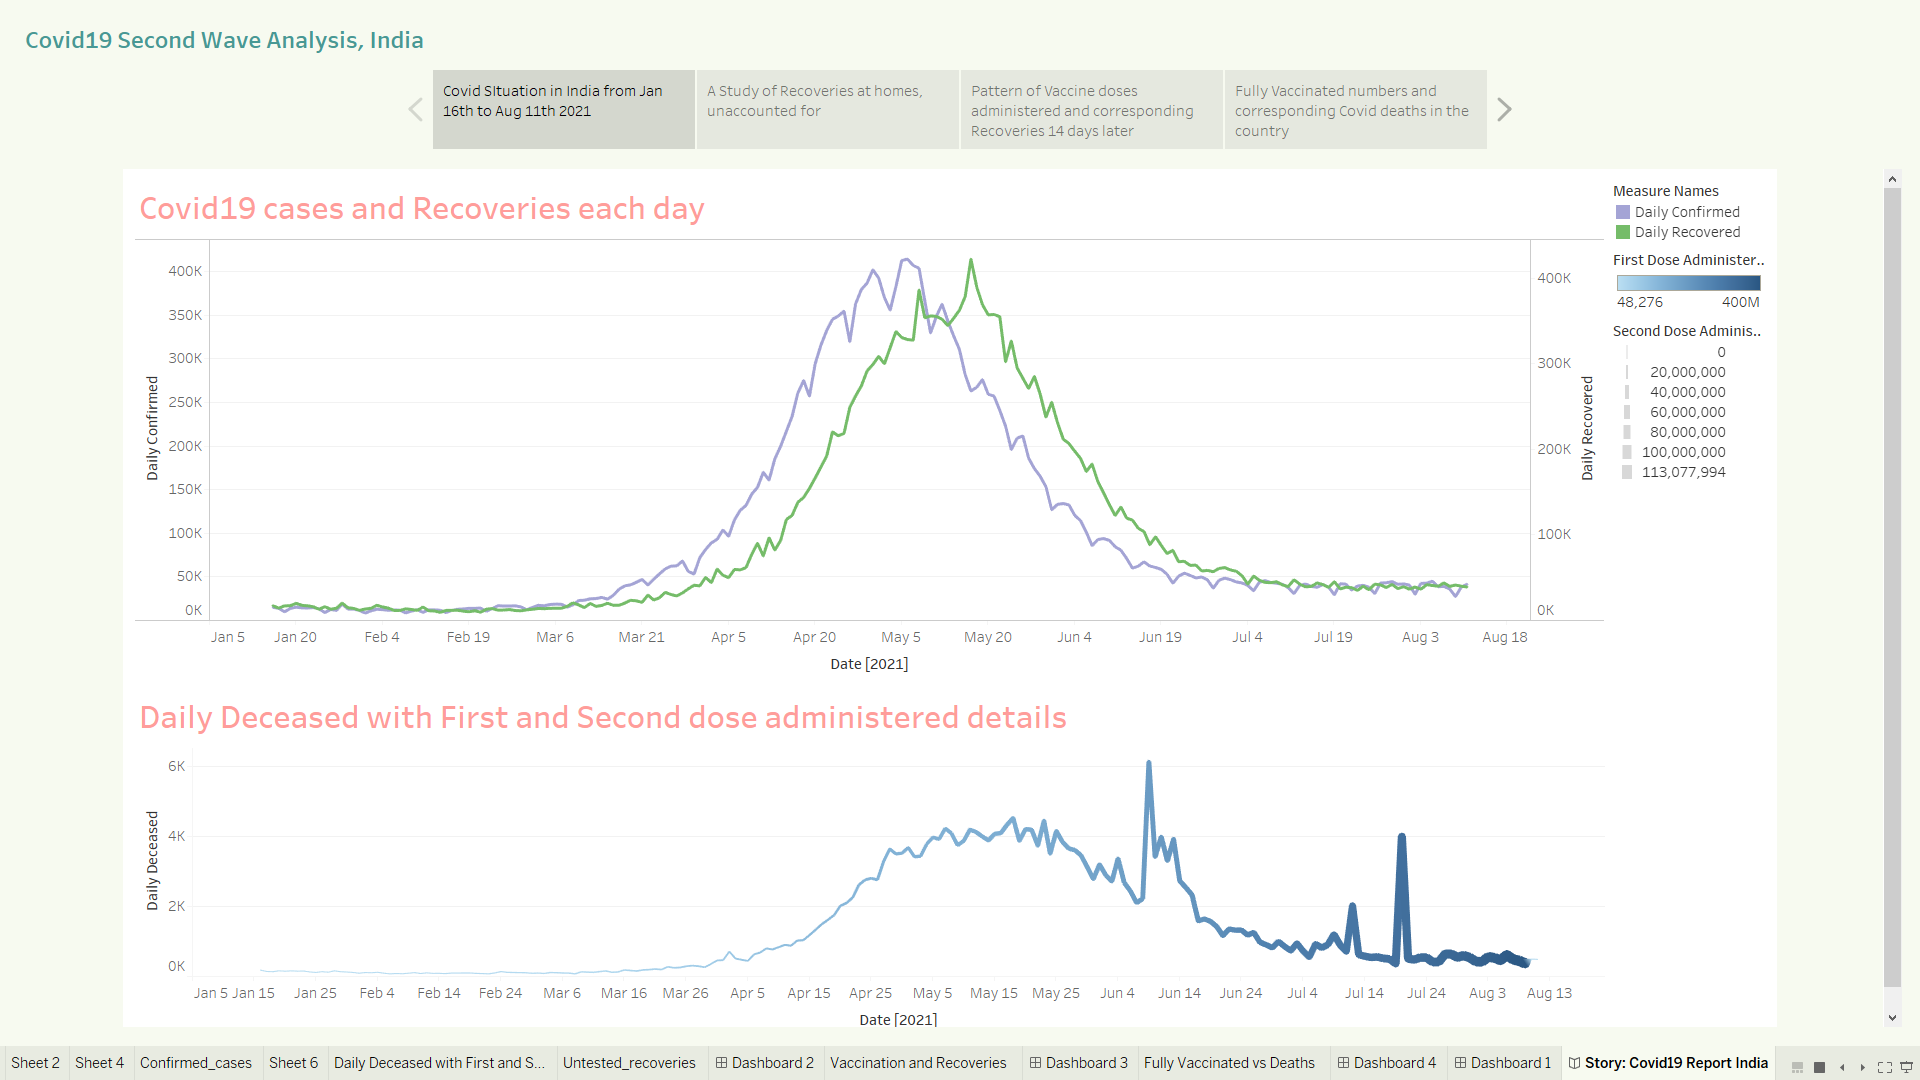

Layout of this report page (visuals, bound fields, positions):
{"tool":"tableau","page":{"name":"Dashboard 1","canvas":[1654,880],"ordinal":0},"visuals":[{"type":"worksheet","title":"Confirmed_cases","mark":"Automatic","rows":["Daily Confirmed","Daily Recovered"],"cols":["Date"],"box":[8,8,1478,509]},{"type":"legend","title":"Confirmed_cases","param":"[federated.1q5zlyh1utoy7n1ebyis20ai7r0z].[:Measure Names]","box":[1486,8,160,69]},{"type":"legend","title":"Daily Deceased with First and Second dose administered details","param":"[federated.1q5zlyh1utoy7n1ebyis20ai7r0z].[sum:First Dose Administered:qk]","box":[1486,77,160,71]},{"type":"legend","title":"Daily Deceased with First and Second dose administered details","param":"[federated.1q5zlyh1utoy7n1ebyis20ai7r0z].[sum:Second Dose Administered:qk]","box":[1486,148,160,169]},{"type":"worksheet","title":"Daily Deceased with First and Second dose administered details","mark":"Automatic","rows":["Daily Deceased"],"cols":["Date"],"box":[8,517,1478,355]}]}

Visuals, with their boxes on the page's 1654x880 design canvas (x1, y1, x2, y2). These are canvas units, not pixel positions in the 1920x1080 screenshot, which may show the page scaled, cropped or inside an application window:
"Confirmed_cases" worksheet: x1=8 y1=8 x2=1486 y2=517
"Confirmed_cases" legend: x1=1486 y1=8 x2=1646 y2=77
"Daily Deceased with First and Second dose administered details" legend: x1=1486 y1=77 x2=1646 y2=148
"Daily Deceased with First and Second dose administered details" legend: x1=1486 y1=148 x2=1646 y2=317
"Daily Deceased with First and Second dose administered details" worksheet: x1=8 y1=517 x2=1486 y2=872
